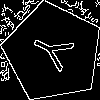Y: (28, 27, 83, 77)
